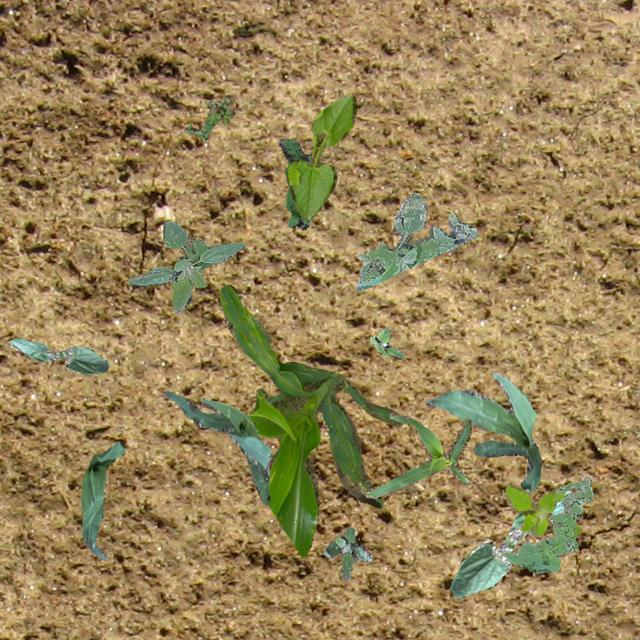crop: (220, 284, 402, 556), (424, 372, 540, 492), (448, 490, 570, 598), (163, 390, 271, 504), (364, 412, 471, 496), (286, 94, 356, 218), (80, 441, 124, 558), (8, 336, 108, 374)
weed: (354, 192, 478, 290), (126, 220, 244, 312), (502, 476, 592, 572), (502, 482, 580, 536), (278, 138, 310, 228), (322, 526, 372, 580), (184, 98, 234, 140), (368, 326, 402, 358)
